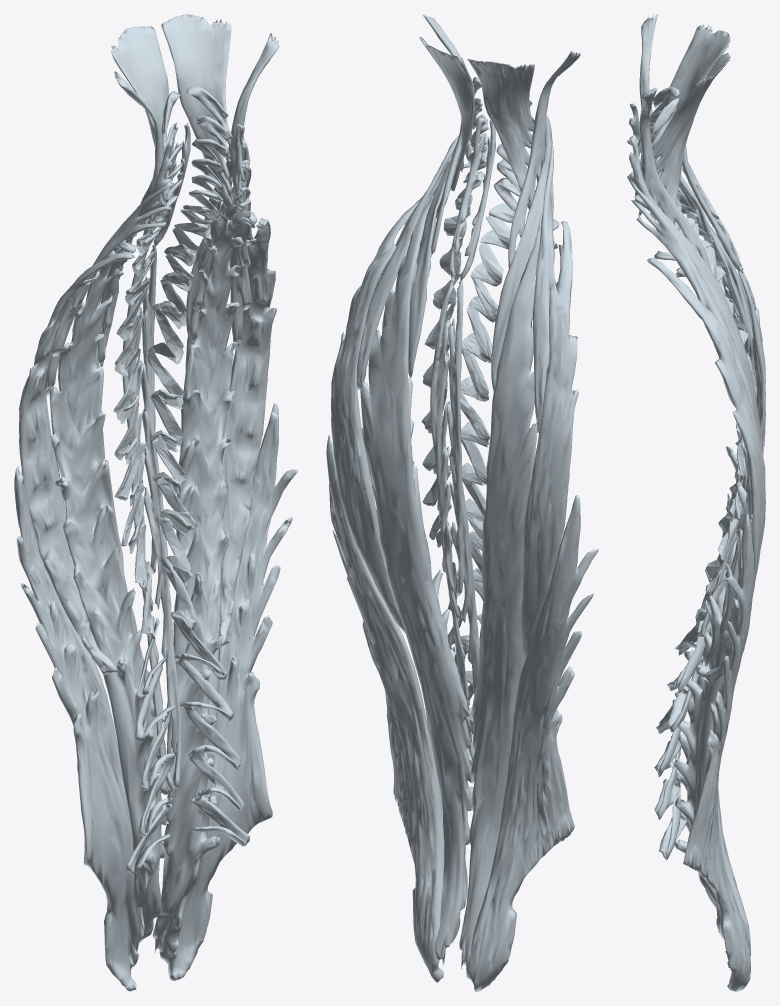
Rendered from paravertebraux.glb.
3 renders of one model, left to right at view 1: azimuth 30°, elevation 25°; view 2: azimuth 150°, elevation 25°; view 3: azimuth 270°, elevation 25°, orthographic. The views are drawn at different scales.
Parts seen in each view (by area): view 1: paravertebraux; view 2: paravertebraux; view 3: paravertebraux.
Part boxes in pixels (<box>): paravertebraux: <box>14,14,297,991</box>; paravertebraux: <box>326,14,598,991</box>; paravertebraux: <box>627,14,765,991</box>.
Size of the model in its own units: 0.2092 by 0.6894 by 0.0928.
